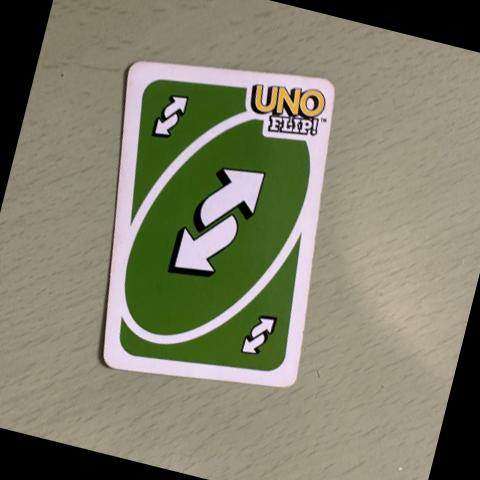lgreenrevers-20: (134, 71, 216, 168)
